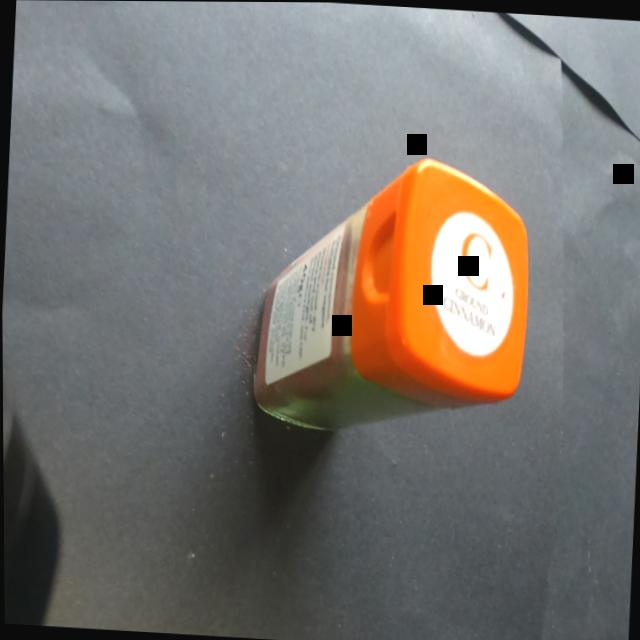Cinnamon: (244, 96, 553, 501)
